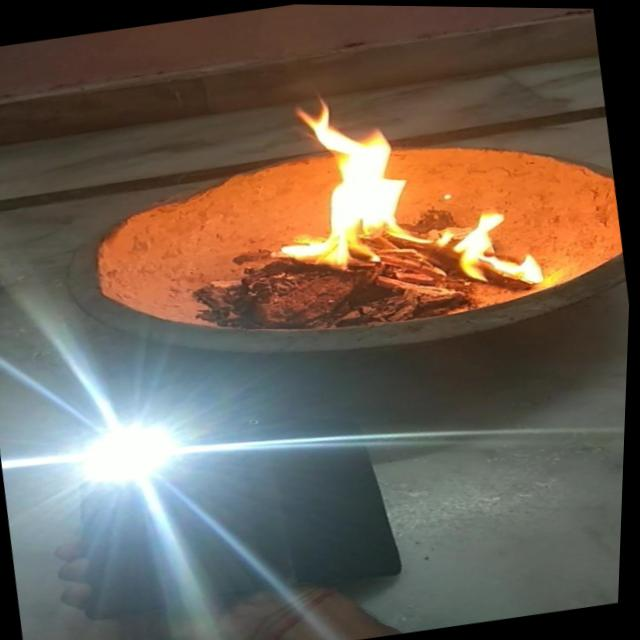fire: (240, 68, 562, 323)
